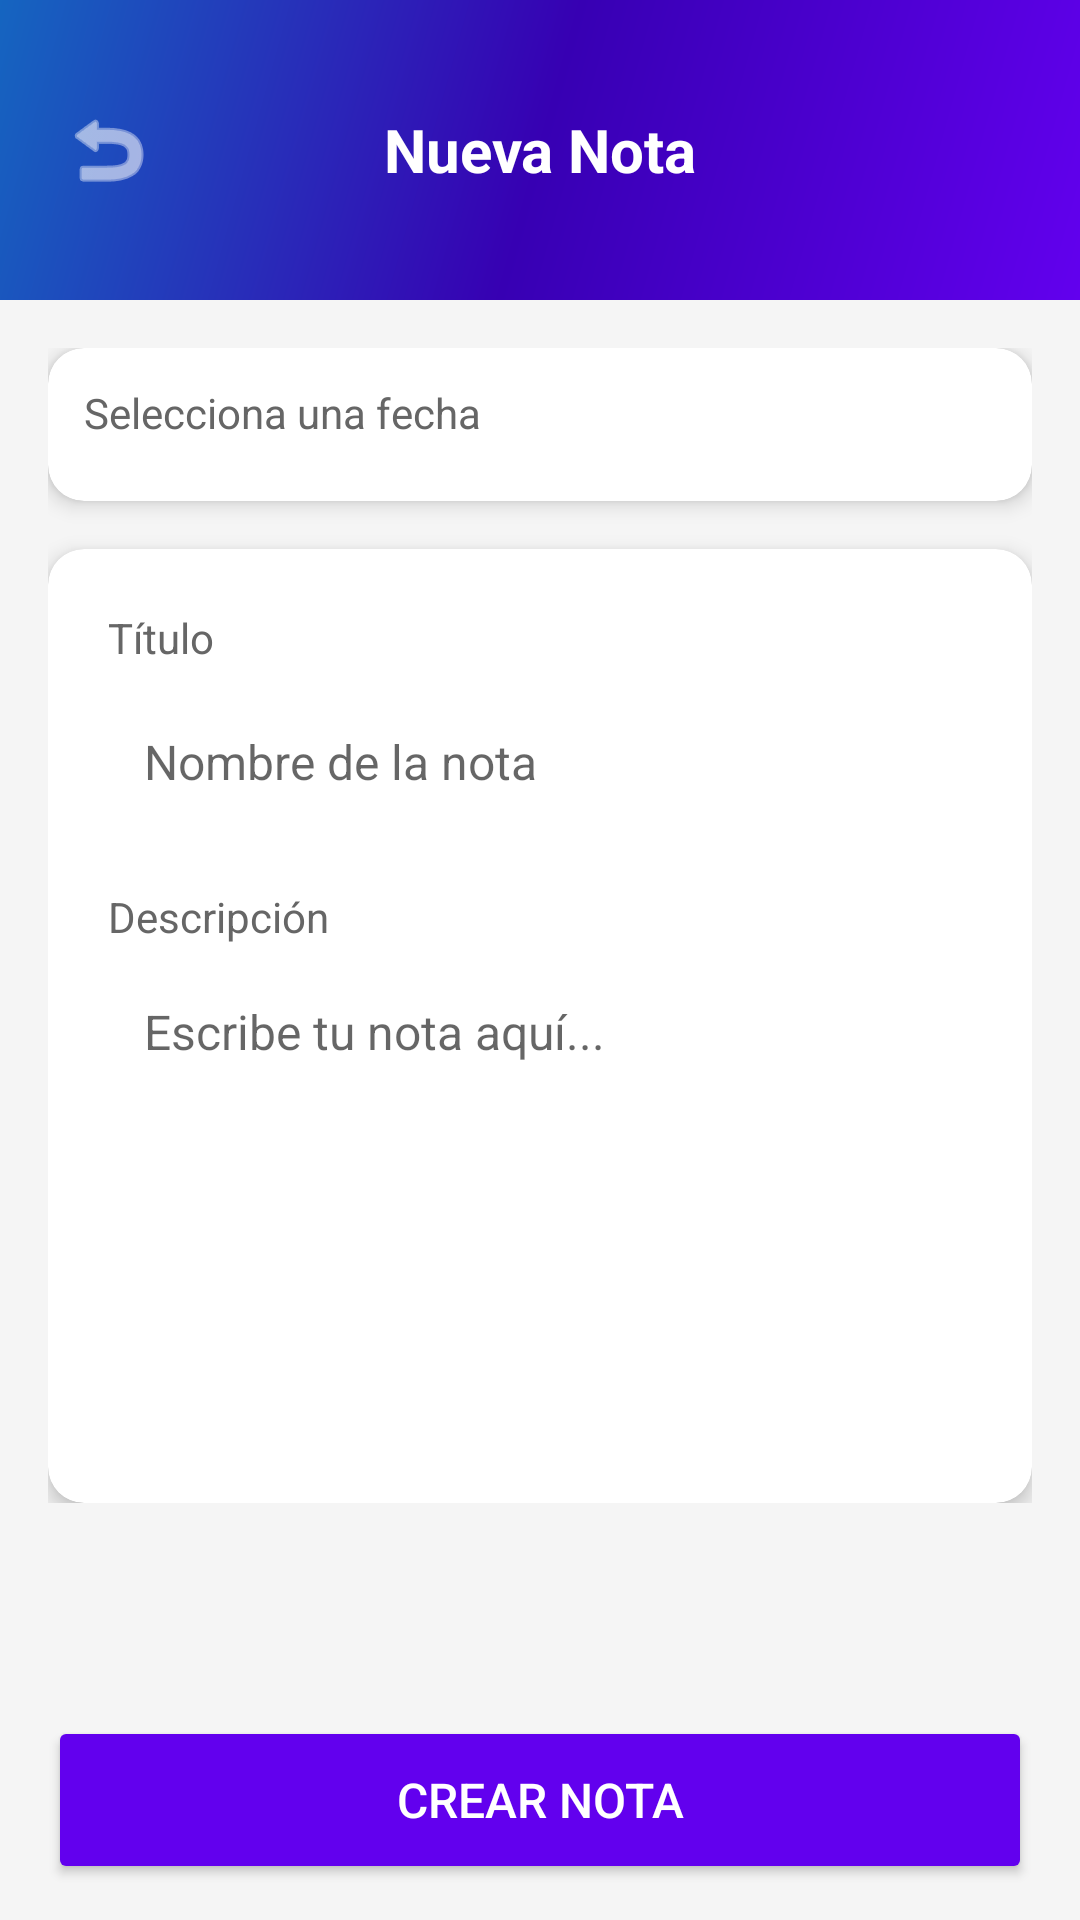

Icons on this 1080×1920 Android screen, each with its box as (x1, y1, x2, y2):
Volver: (75, 119, 144, 182)
